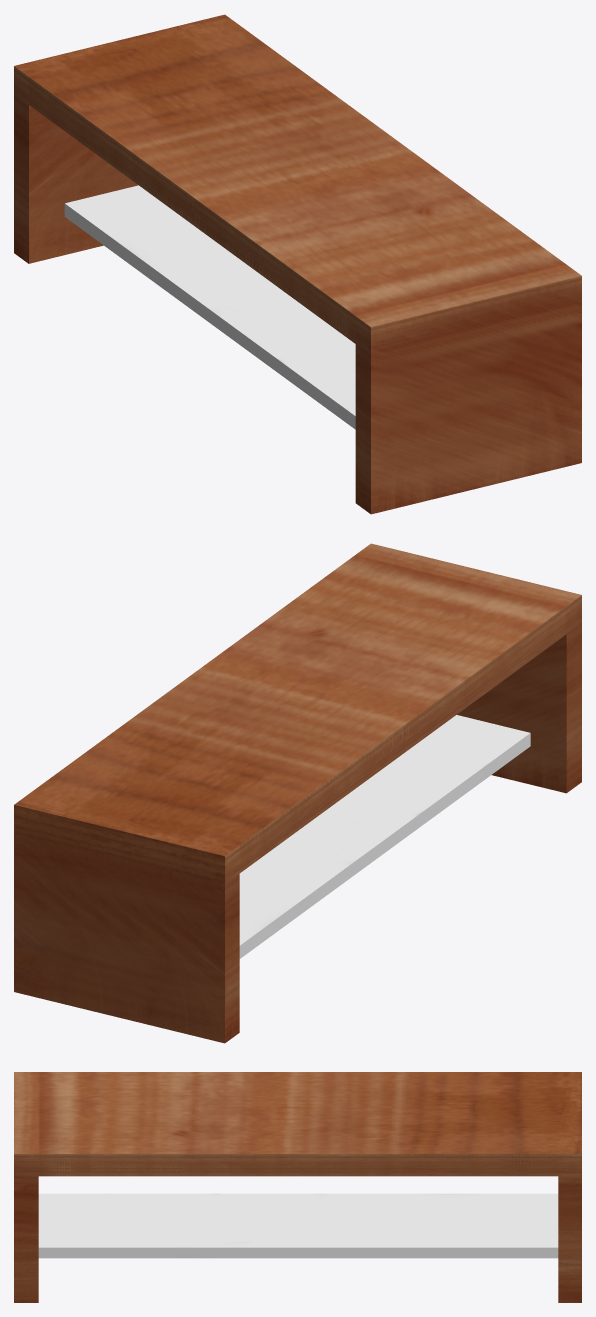
Rendered from bench.glb.
3 renders of one model, top to bottom at view 1: azimuth 30°, elevation 25°; view 2: azimuth 150°, elevation 25°; view 3: azimuth 270°, elevation 25°, orthographic. The views are drawn at different scales.
Parts seen in each view (by area): view 1: bench, bench bench_2; view 2: bench, bench bench_2; view 3: bench, bench bench_2.
Boxes of the visible parts, x1,y1,x2,y2 form: bench: [14, 14, 581, 514]; bench bench_2: [64, 185, 355, 429]; bench: [14, 543, 581, 1043]; bench bench_2: [239, 715, 530, 958]; bench: [14, 1072, 581, 1302]; bench bench_2: [38, 1193, 558, 1258].
Bounding box in the file's own units: 2.85 × 2.42 × 8.37.
2 materials, 2 textured.
